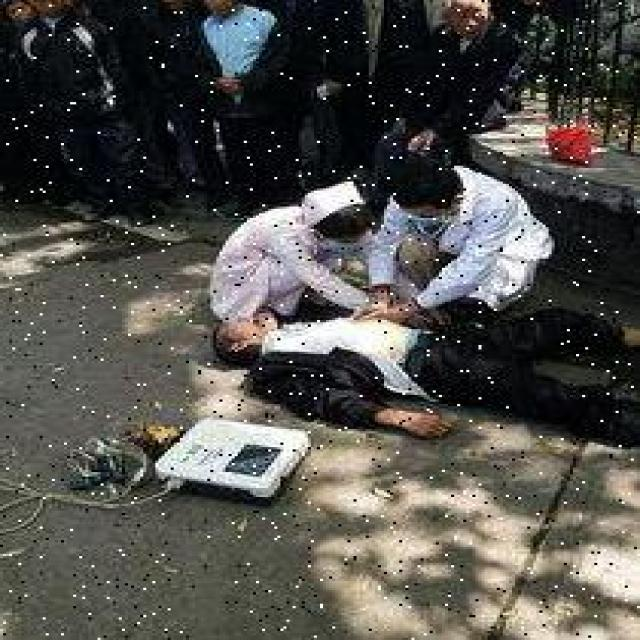fall: (210, 308, 637, 442)
